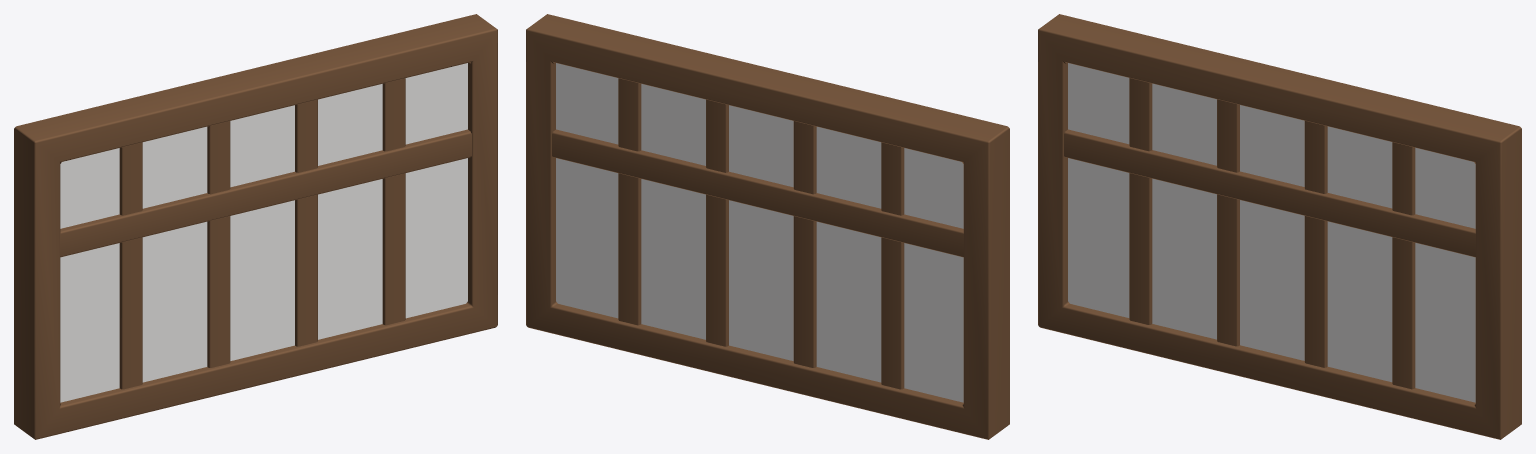
Rendered from Window_7.glb.
The picture shows the model from 3 angles, left to right: view 1: azimuth 30°, elevation 25°; view 2: azimuth 150°, elevation 25°; view 3: azimuth 330°, elevation 25°; orthographic projection.
Parts seen in each view (by area): view 1: Window_11; view 2: Window_11; view 3: Window_11.
Boxes of the visible parts, x1=… form: Window_11: x1=14, y1=14, x2=497, y2=439; Window_11: x1=526, y1=14, x2=1009, y2=439; Window_11: x1=1038, y1=14, x2=1521, y2=439.
Bounding box in the file's own units: 4.98 × 3.07 × 0.4.
2 materials, 2 textured.
